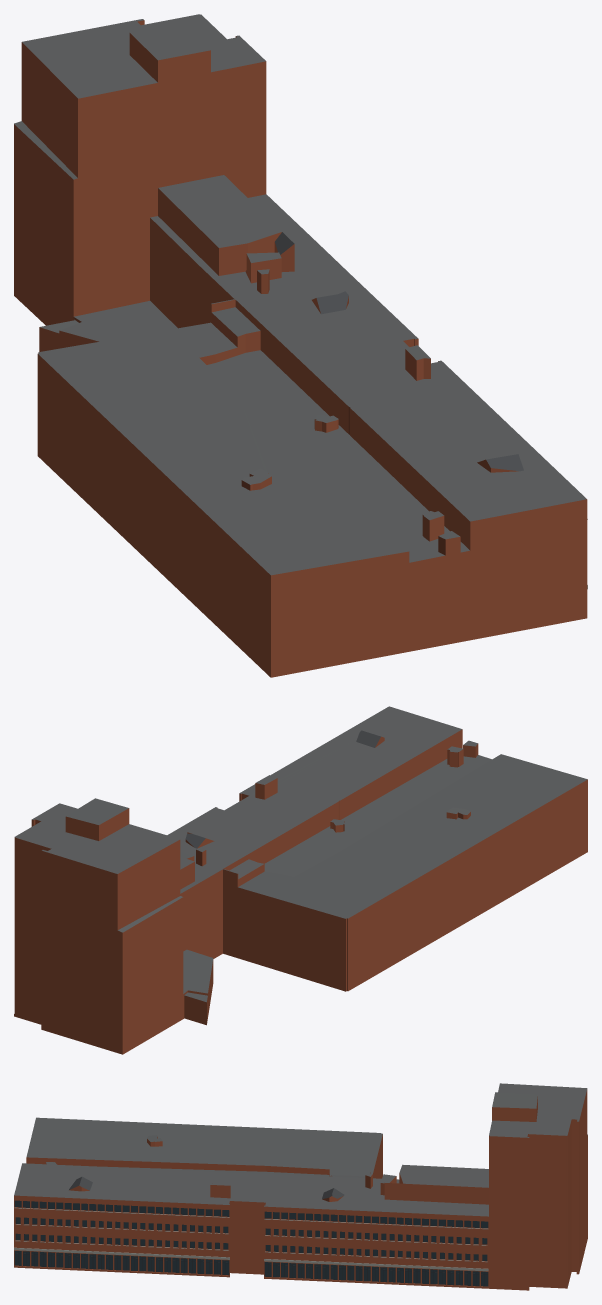
The model's file is recipe-large-heinekenplein-130580.glb.
The picture shows the model from 3 angles, top to bottom: view 1: azimuth 30°, elevation 25°; view 2: azimuth 150°, elevation 25°; view 3: azimuth 270°, elevation 25°; orthographic projection. The views are drawn at different scales.
Parts seen in each view (by area): view 1: heinekenplein-130580; view 2: heinekenplein-130580; view 3: heinekenplein-130580.
Part boxes in pixels (left/top/right/bottom): heinekenplein-130580: left=14, top=14, right=587, bottom=677; heinekenplein-130580: left=14, top=706, right=587, bottom=1054; heinekenplein-130580: left=14, top=1083, right=587, bottom=1290.
Size of the model in its own units: 50.36 by 35.17 by 110.
